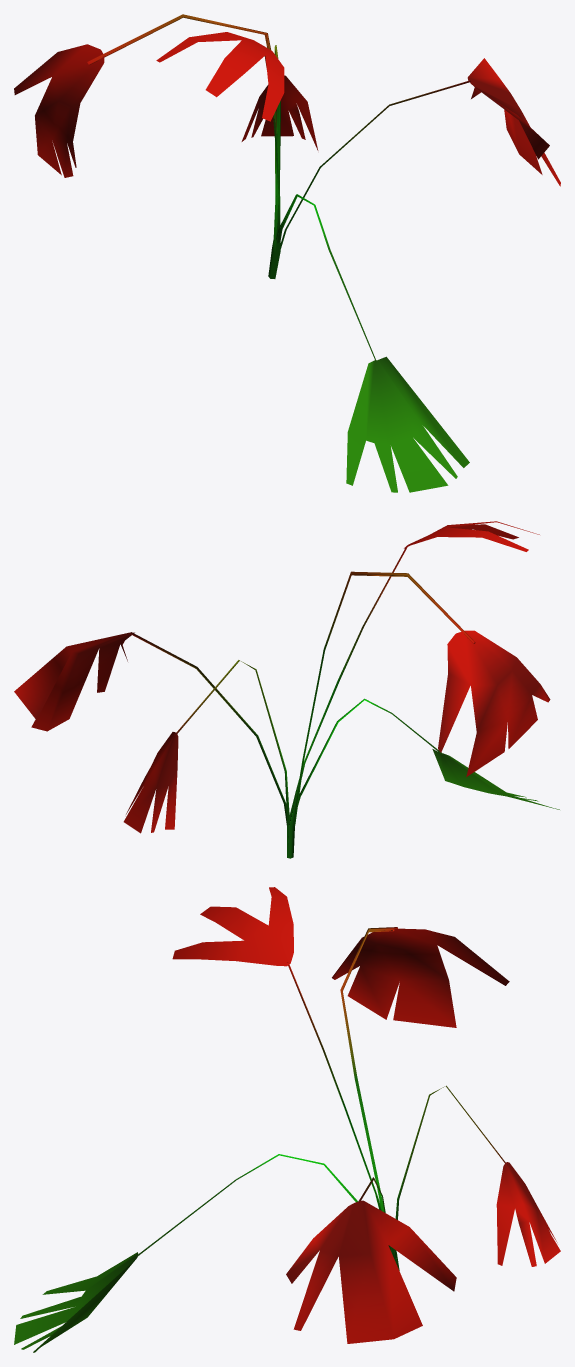
The model's file is Var4_LOD2.fbx.
The picture shows the model from 3 angles, top to bottom: view 1: azimuth 30°, elevation 25°; view 2: azimuth 150°, elevation 25°; view 3: azimuth 270°, elevation 25°; orthographic projection.
Visible parts, largest first — view 1: _61be_Var4_LOD2; view 2: _61be_Var4_LOD2; view 3: _61be_Var4_LOD2.
Boxes of the visible parts, x1,y1,x2,y2 form: _61be_Var4_LOD2: [14, 14, 560, 492]; _61be_Var4_LOD2: [14, 521, 559, 858]; _61be_Var4_LOD2: [14, 887, 560, 1352].
Bounding box in the file's own units: 190 × 146 × 187.
